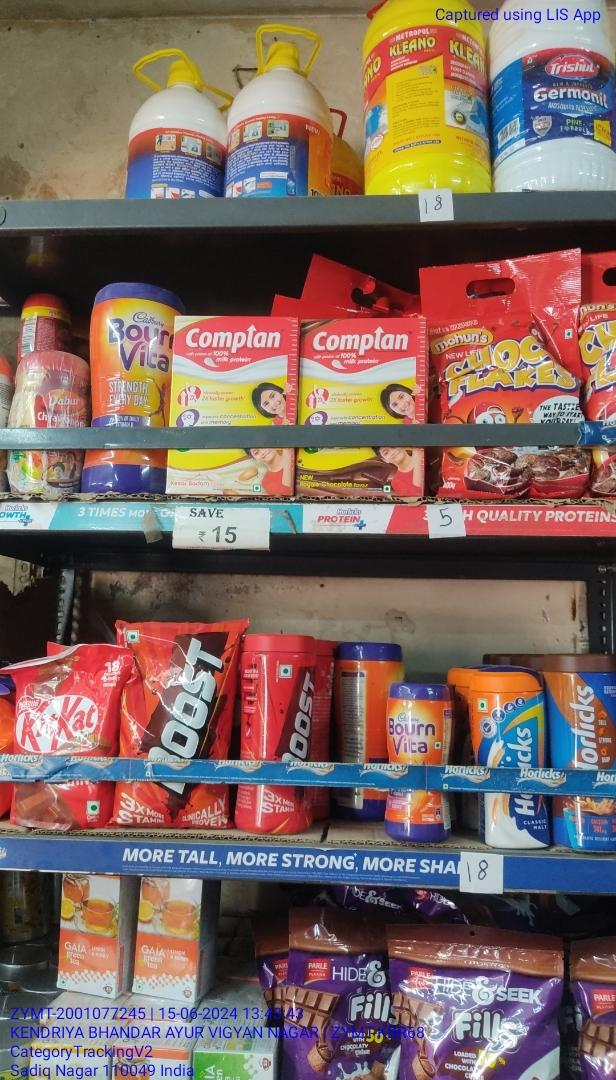BOURN_VITA_200_G_JAR: (386, 684, 452, 841)
BOURN_VITA_500_G_JAR: (87, 281, 163, 490)
COMPLAN_CHOCOLATE_500_GMS_PACK: (303, 322, 428, 502)
COMPLAN_KESAR_BADAM_500_GMS_PACK: (171, 314, 298, 497)
HORLICK_CLASSIC_MALT_200_G_JAR: (471, 669, 550, 852)
